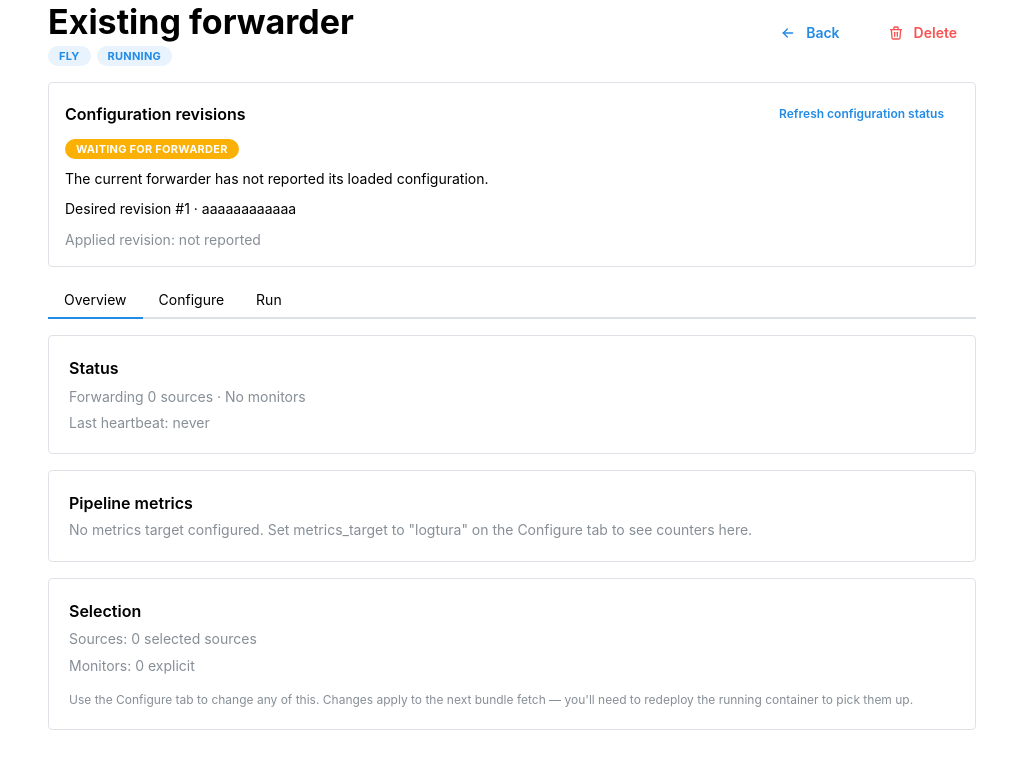
Scenario: presents binary bundle files as downloadable assets in the actual deployment Run tab
This screenshot has width=1024, height=768.
Expected: the heading "Existing forwarder" is shown, left=48, top=0, right=354, bottom=44
Step 1. Click the tab "Run" → (269, 301), box left=240, top=283, right=298, bottom=319
(page scrolled)
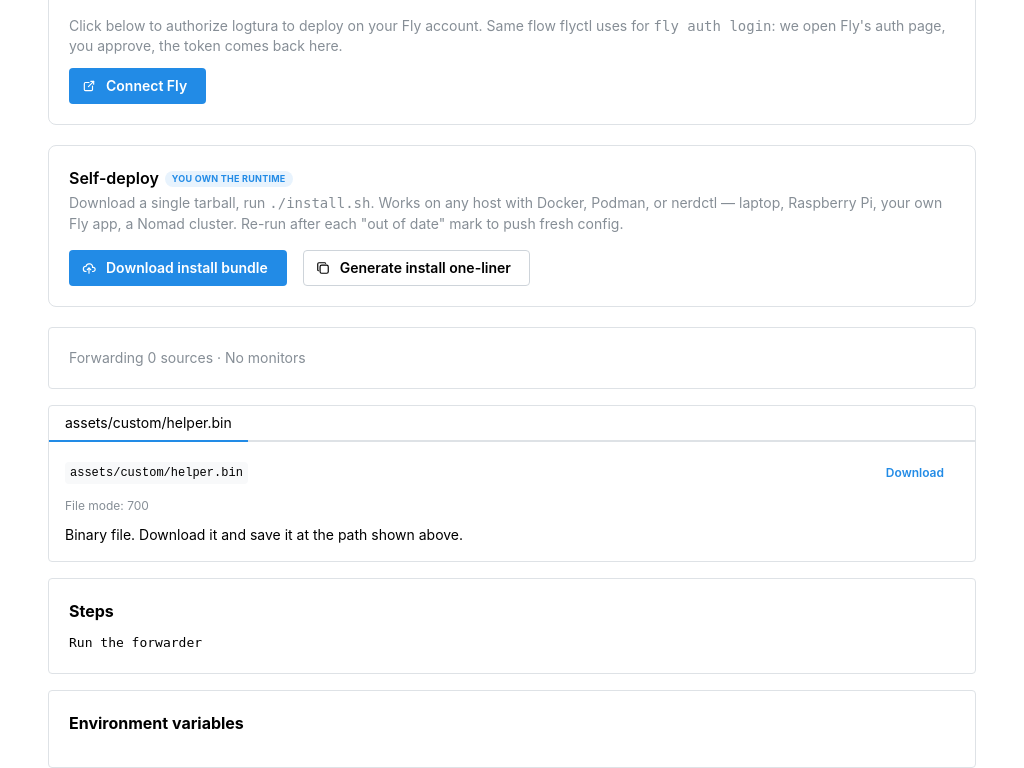
Expected: the text "Binary file. Download it and save it at the path shown above." is shown, left=65, top=526, right=463, bottom=543
Expected: the button "Download" is shown, left=871, top=458, right=959, bottom=488
Expected: the text "File mode: 700" is shown, left=65, top=498, right=149, bottom=513
